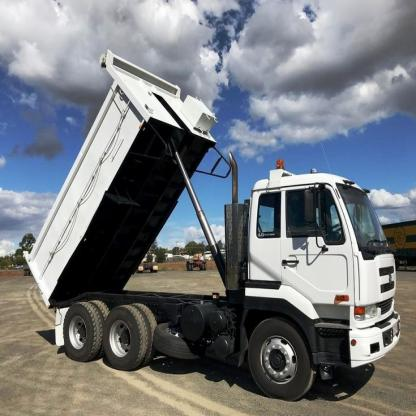dump_truck: (22, 32, 404, 402)
